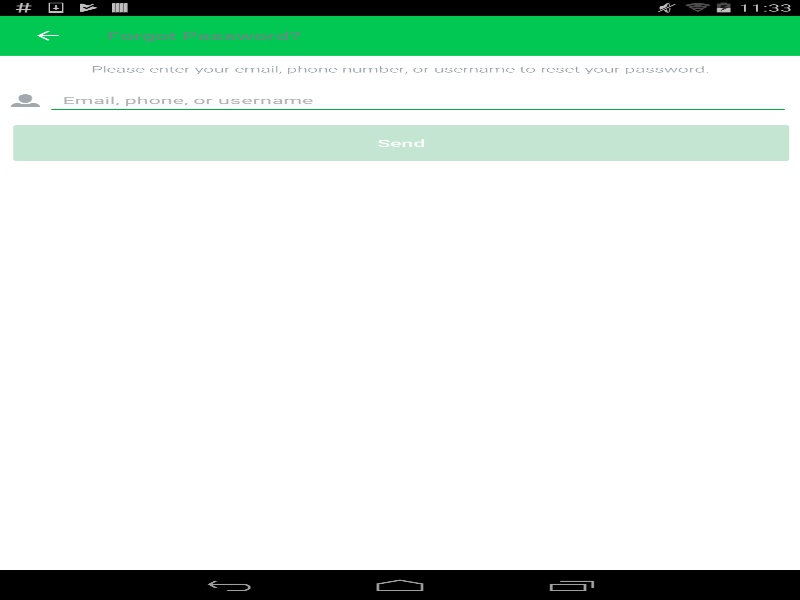Button: (13, 125, 789, 161), (10, 15, 85, 55)
Input: (46, 89, 789, 111)
